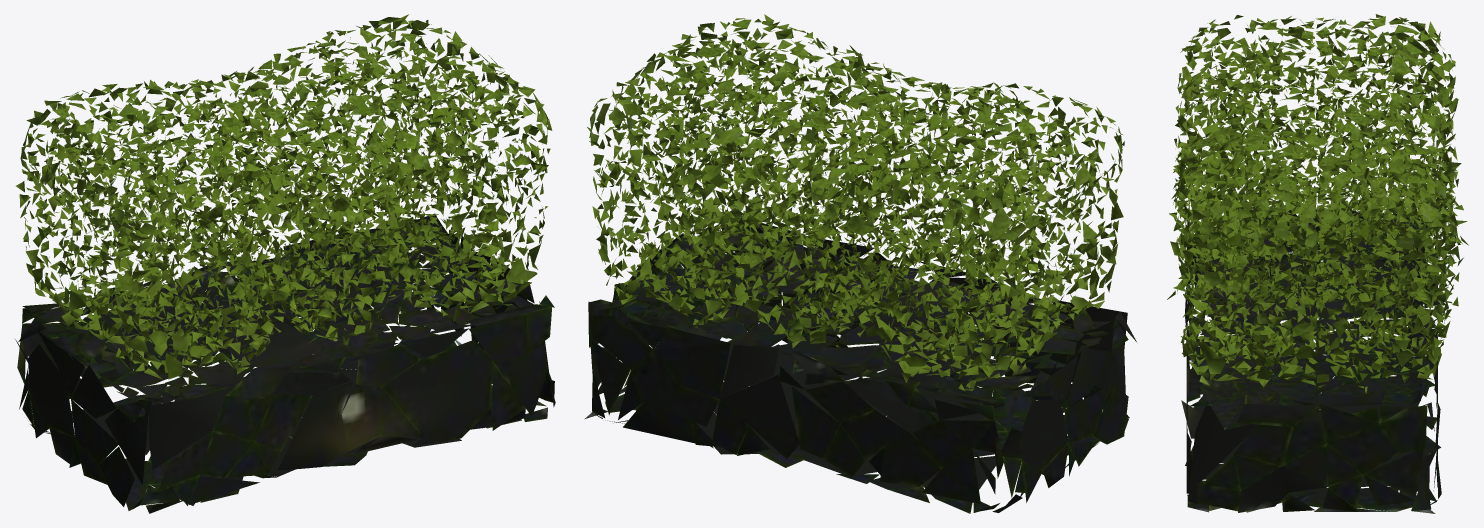
The model's file is planter.glb.
The picture shows the model from 3 angles, left to right: view 1: azimuth 30°, elevation 25°; view 2: azimuth 150°, elevation 25°; view 3: azimuth 270°, elevation 25°; orthographic projection. The views are drawn at different scales.
Parts seen in each view (by area): view 1: Mesh_0; view 2: Mesh_0; view 3: Mesh_0.
Part boxes in pixels (x1,y1,x2,y2): Mesh_0: [15, 14, 555, 513]; Mesh_0: [585, 14, 1136, 513]; Mesh_0: [1167, 14, 1468, 513].
Size of the model in its own units: 1.87 by 1.37 by 1.15.
Materials: 1 (1 with a texture image).
